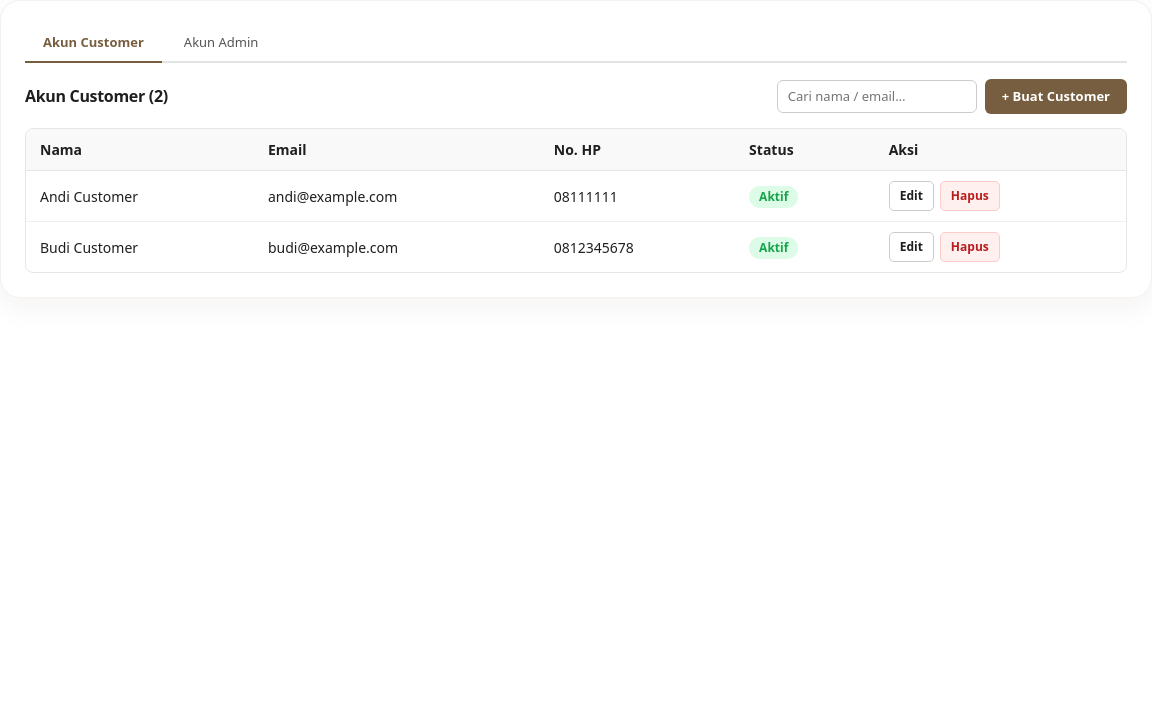
Test: AccountsSection — add admin (staff) account › submits to the create-staff endpoint and closes the modal
Click the tab "Akun Admin" at (221,44), box 166,25 -> 276,62
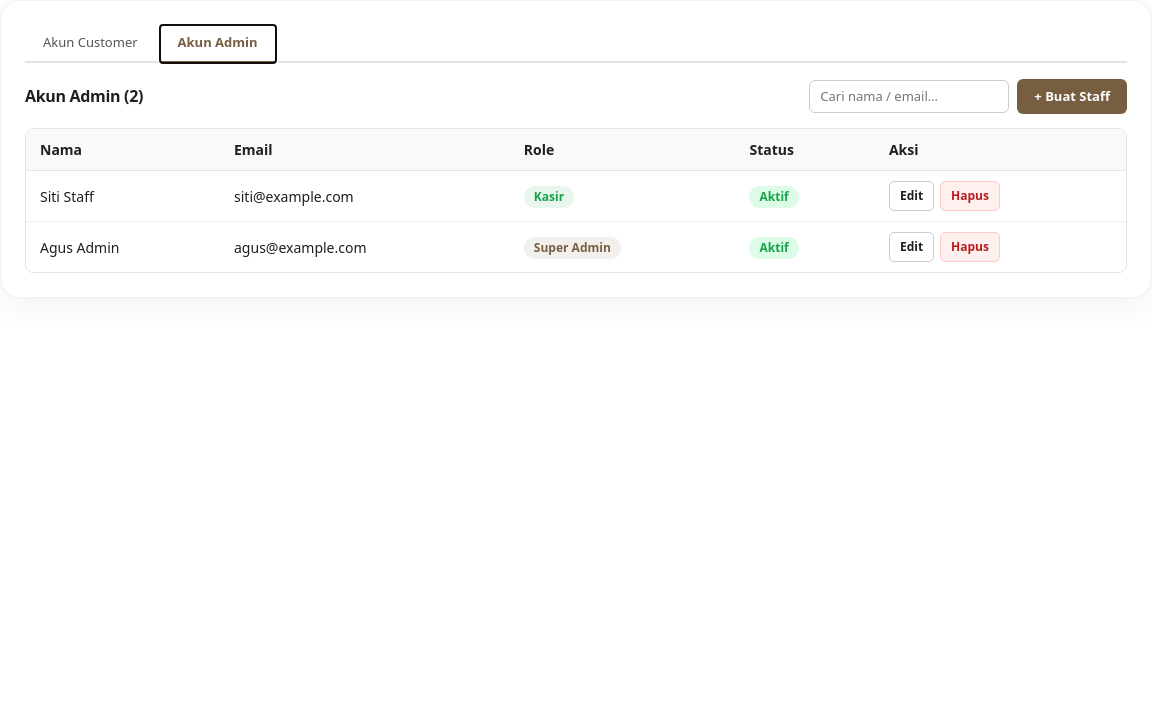
expect the text "Siti Staff" is shown: met, box 26,170 -> 220,222
Click the button with aria-label "Buat akun staff baru" at (1072,96), box 1017,78 -> 1127,114
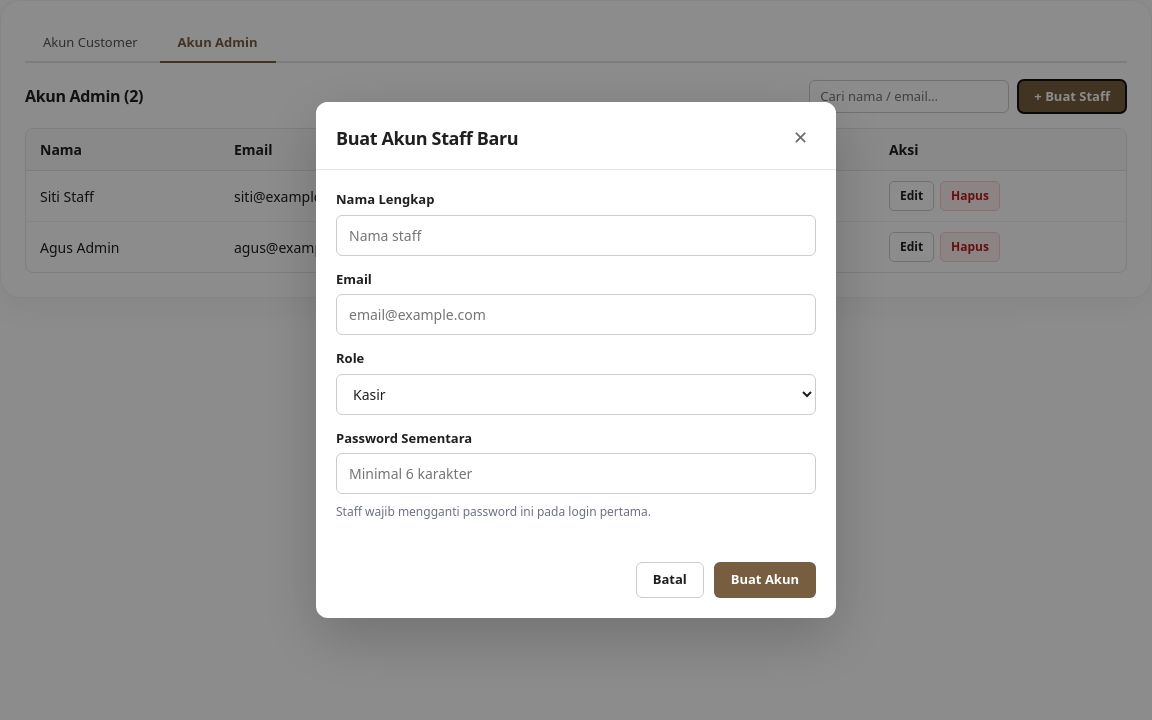
Type "Staff Baru" into the field labelled "Nama Lengkap" at (576,236), box 336,215 -> 816,256
Type "staff@example.com" into the field labelled "Email" at (576,315), box 336,294 -> 816,336
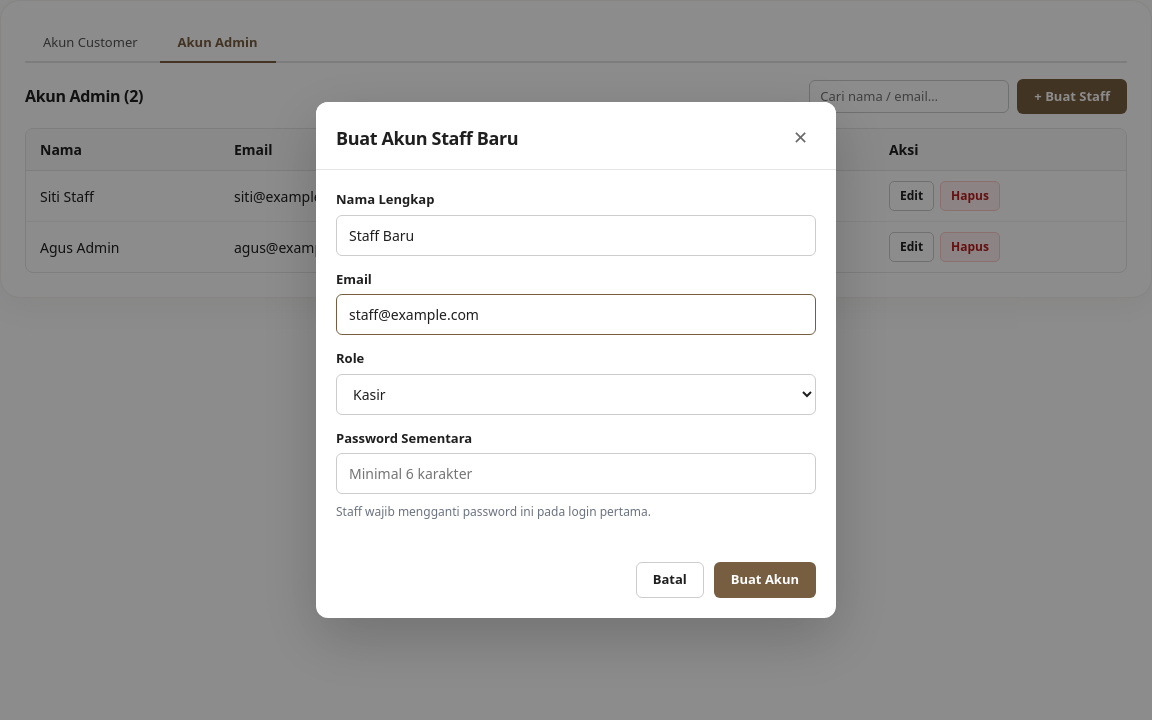
Select "Kasir" in the dropdown labelled "Role" at (576,394), box 336,374 -> 816,415
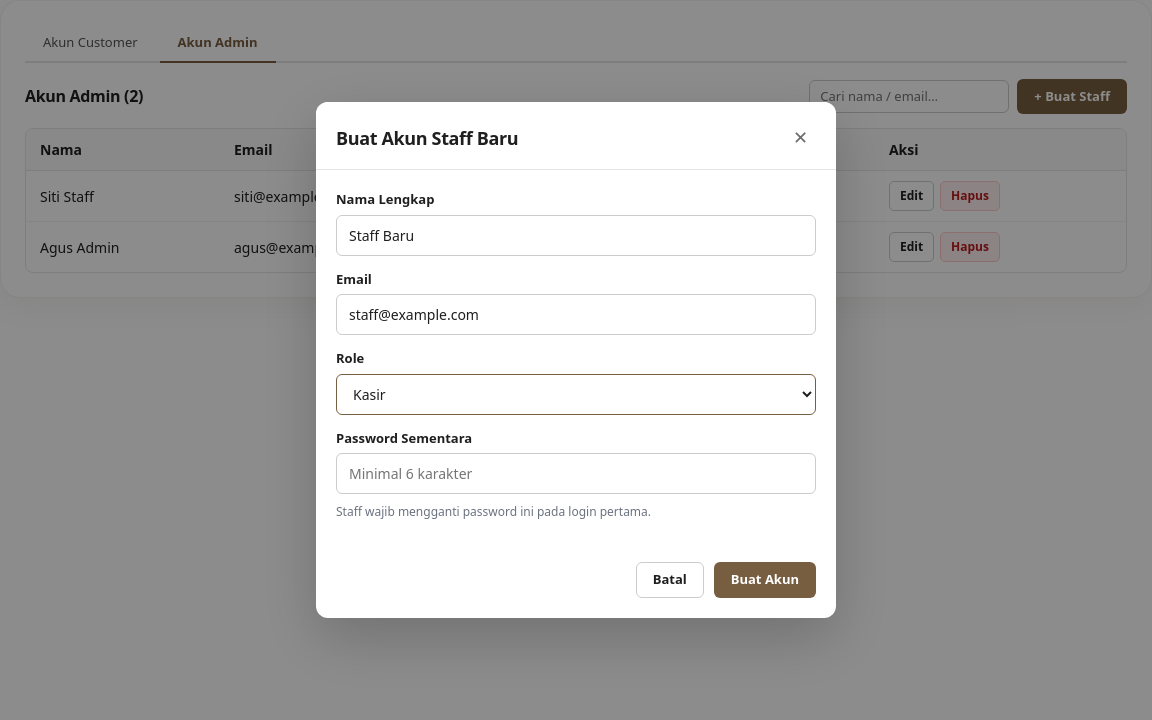
Type "rahasia123" into the password field labelled "Password Sementara" at (576,474), box 336,454 -> 816,494
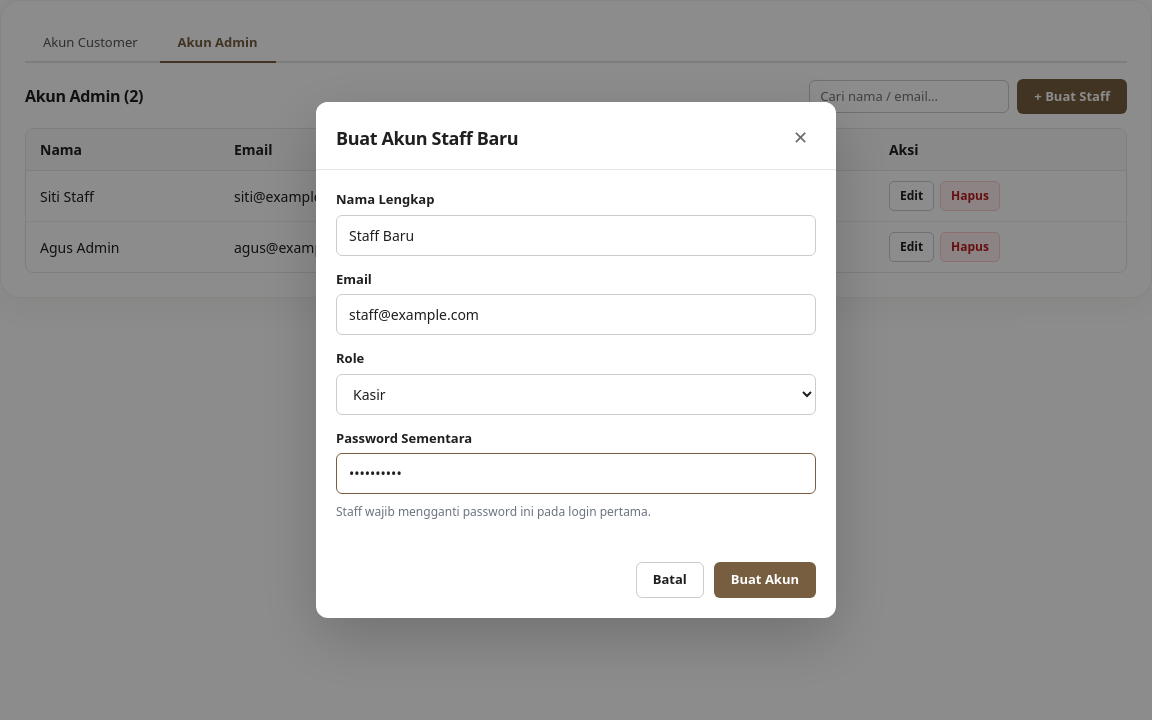
Click the button "Buat Akun" at (765,580), box 714,562 -> 816,598
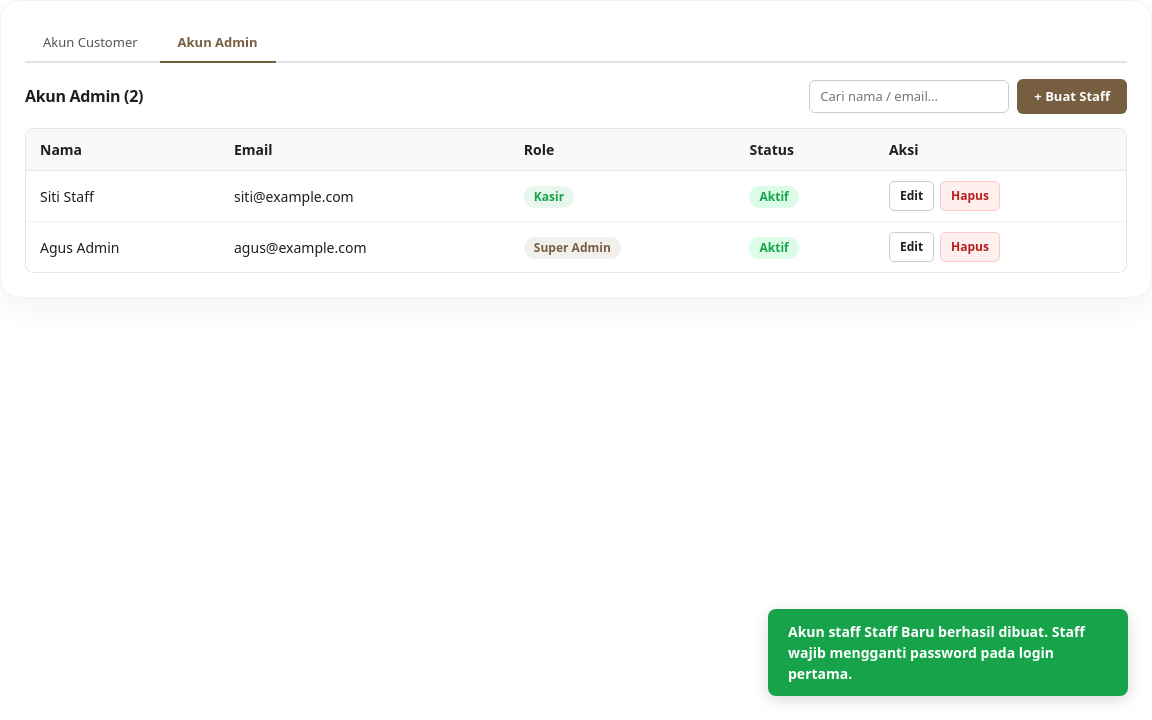
expect the heading "Buat Akun Staff Baru" is gone: met
